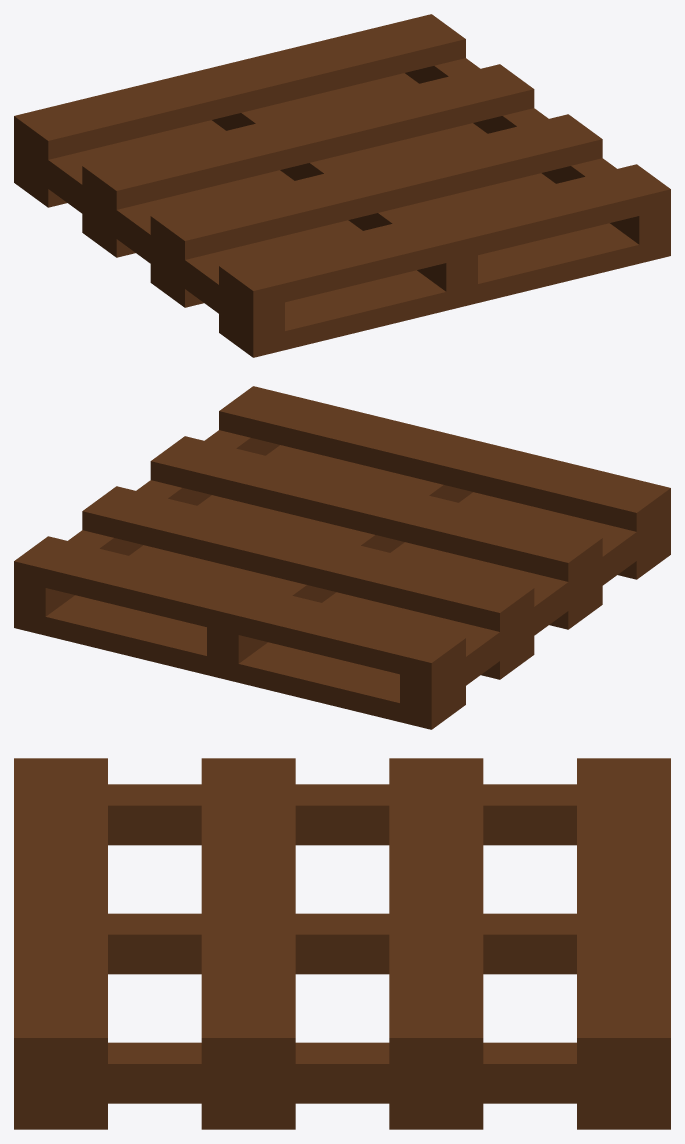
File: pallet.fbx
3 views of the same model, one above another, from view 1: azimuth 30°, elevation 25°; view 2: azimuth 150°, elevation 25°; view 3: azimuth 270°, elevation 25° (orthographic). The views are drawn at different scales.
Visible parts, largest first — view 1: Pallet; view 2: Pallet; view 3: Pallet.
Boxes of the visible parts, box(x1,y1,x2,y2) form: Pallet: box(14, 14, 670, 357); Pallet: box(14, 386, 670, 729); Pallet: box(14, 758, 670, 1129).
Size of the model in its own units: 277 by 42.31 by 275.
